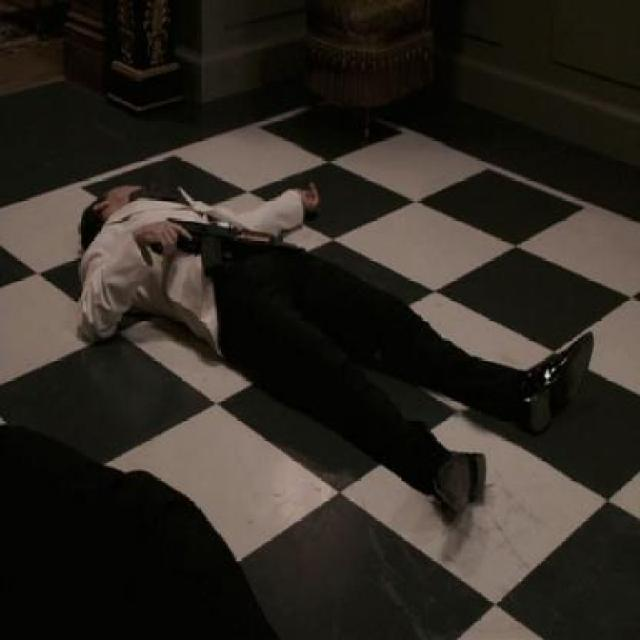gun: (168, 187, 294, 275)
